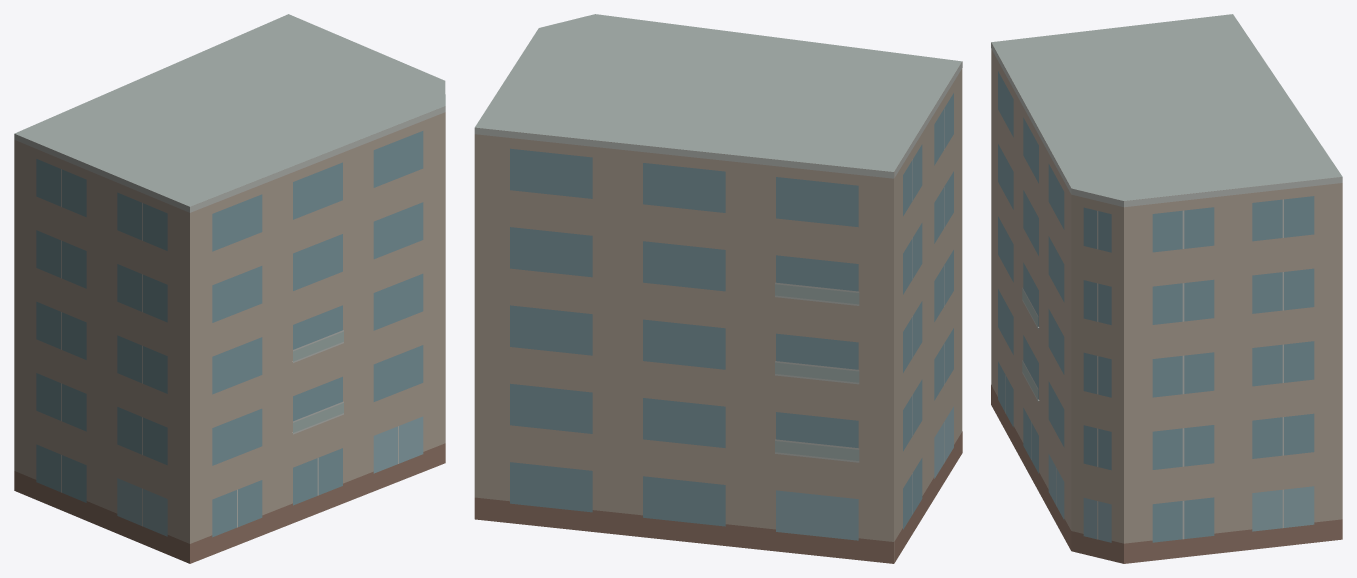
The model's file is survey-upis-32645513.glb.
3 renders of one model, left to right at view 1: azimuth 30°, elevation 25°; view 2: azimuth 150°, elevation 25°; view 3: azimuth 270°, elevation 25°, orthographic. The views are drawn at different scales.
Parts seen in each view (by area): view 1: survey-upis-32645513.tmp; view 2: survey-upis-32645513.tmp; view 3: survey-upis-32645513.tmp.
Boxes of the visible parts, box(x1,y1,x2,y2) form: survey-upis-32645513.tmp: box(14, 14, 445, 563); survey-upis-32645513.tmp: box(474, 14, 962, 563); survey-upis-32645513.tmp: box(991, 14, 1342, 563).
Size of the model in its own units: 15.94 by 14.4 by 12.65.
